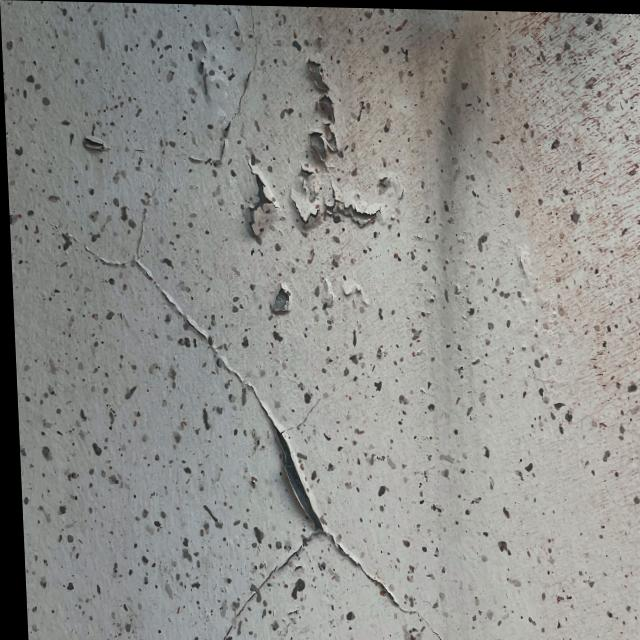spalling: (98, 235, 435, 640), (203, 40, 410, 269)
